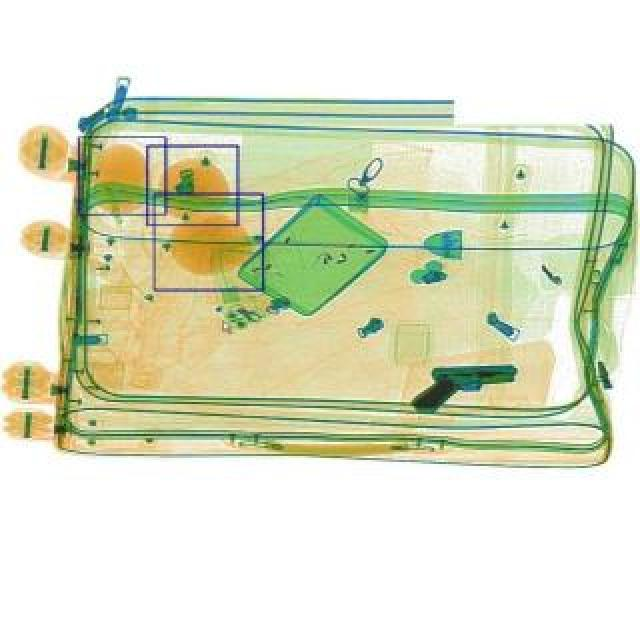gun: (410, 366, 514, 414)
